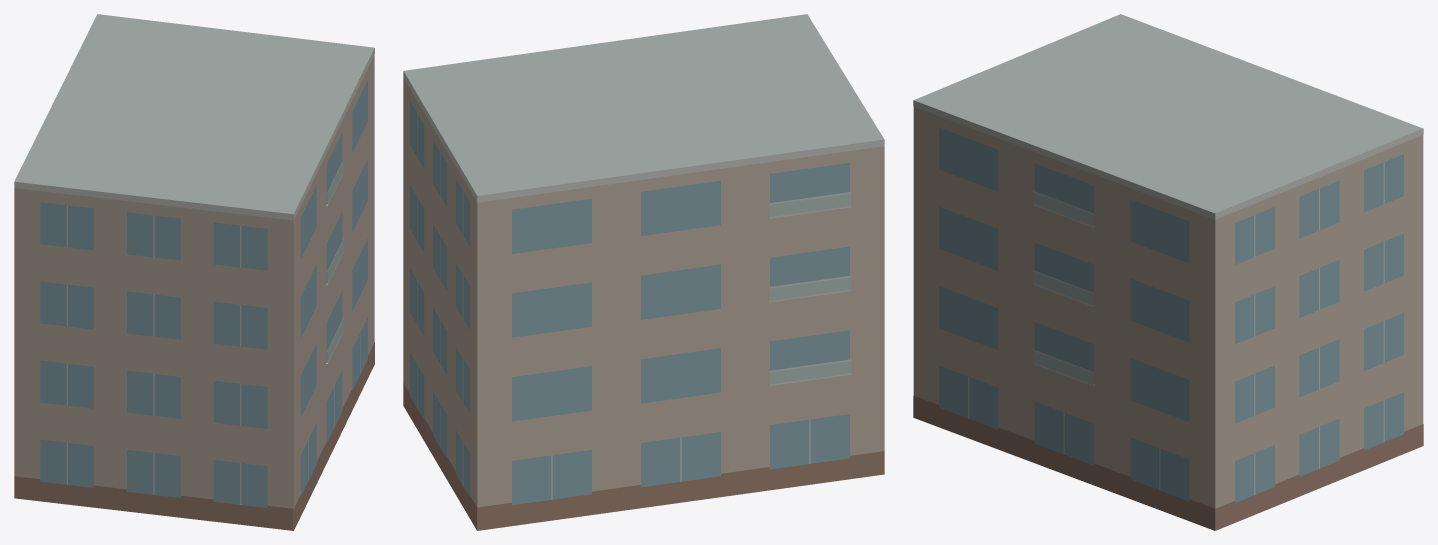
File: survey-upis-32890999.glb
The picture shows the model from 3 angles, left to right: view 1: azimuth 30°, elevation 25°; view 2: azimuth 150°, elevation 25°; view 3: azimuth 270°, elevation 25°; orthographic projection. The views are drawn at different scales.
Parts seen in each view (by area): view 1: survey-upis-32890999.tmp; view 2: survey-upis-32890999.tmp; view 3: survey-upis-32890999.tmp.
Boxes of the visible parts, box(x1,y1,x2,y2) form: survey-upis-32890999.tmp: box(14, 14, 374, 530); survey-upis-32890999.tmp: box(403, 14, 884, 530); survey-upis-32890999.tmp: box(913, 14, 1423, 530).
Bounding box in the file's own units: 16.45 × 12.2 × 17.77.
